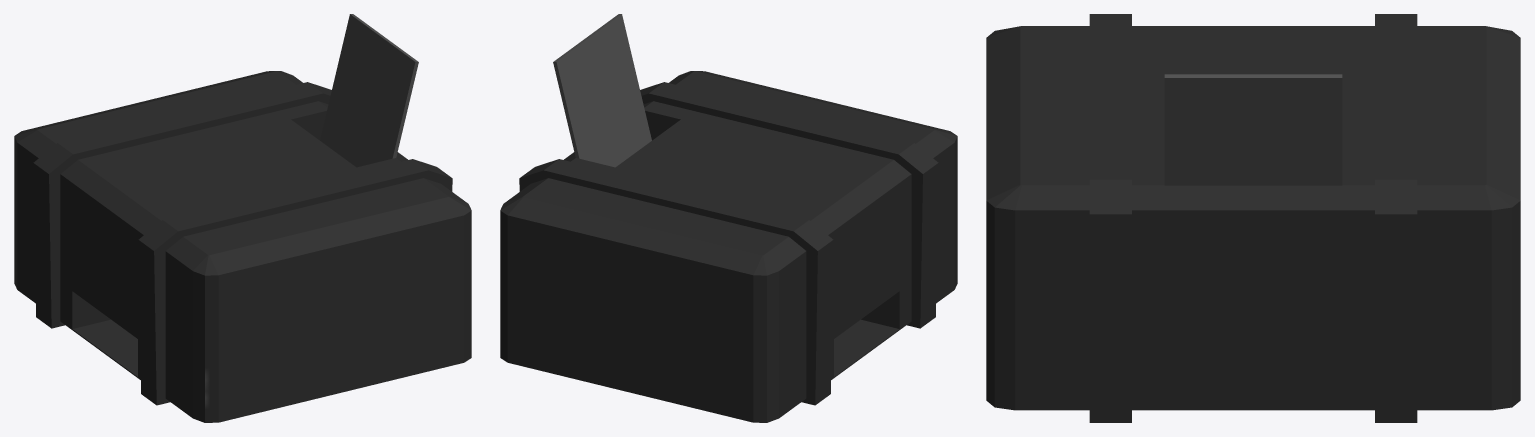
The model's file is Impresora.fbx.
The picture shows the model from 3 angles, left to right: view 1: azimuth 30°, elevation 25°; view 2: azimuth 150°, elevation 25°; view 3: azimuth 270°, elevation 25°; orthographic projection. The views are drawn at different scales.
Parts seen in each view (by area): view 1: Impresora; view 2: Impresora; view 3: Impresora.
Part boxes in pixels (x1,y1,x2,y2): Impresora: (14,14,471,422); Impresora: (500,14,957,422); Impresora: (986,14,1520,422).
Size of the model in its own units: 67.09 by 54.46 by 76.68.
